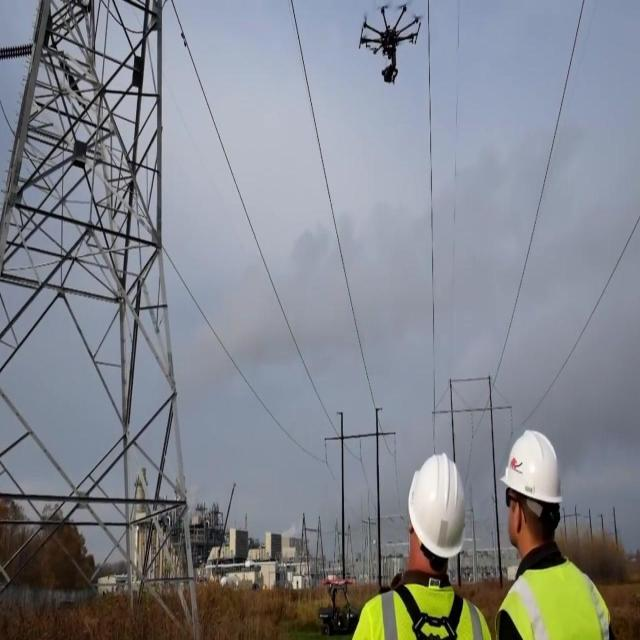drone: (358, 2, 421, 86)
